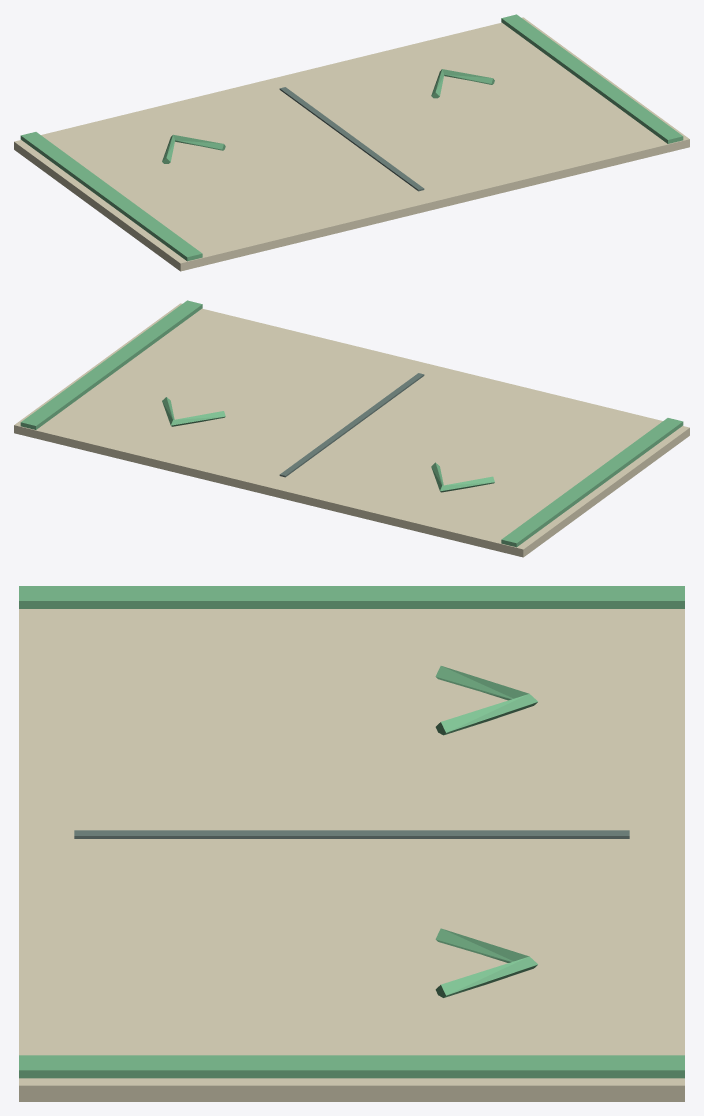
Rendered from PLAZA-009.glb.
3 renders of one model, top to bottom at view 1: azimuth 30°, elevation 25°; view 2: azimuth 150°, elevation 25°; view 3: azimuth 270°, elevation 25°, orthographic. The views are drawn at different scales.
Visible parts, largest first — view 1: PLAZA-009; view 2: PLAZA-009; view 3: PLAZA-009.
Part boxes in pixels (bbox=[...]): PLAZA-009: bbox=[14, 14, 689, 271]; PLAZA-009: bbox=[14, 300, 689, 557]; PLAZA-009: bbox=[19, 586, 684, 1101].
Bounding box in the file's own units: 5.3 × 0.14 × 3.
